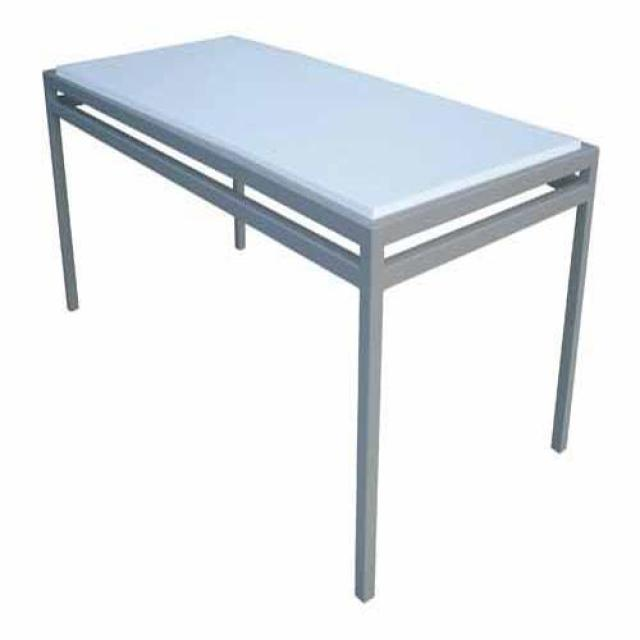table: (42, 36, 602, 605)
